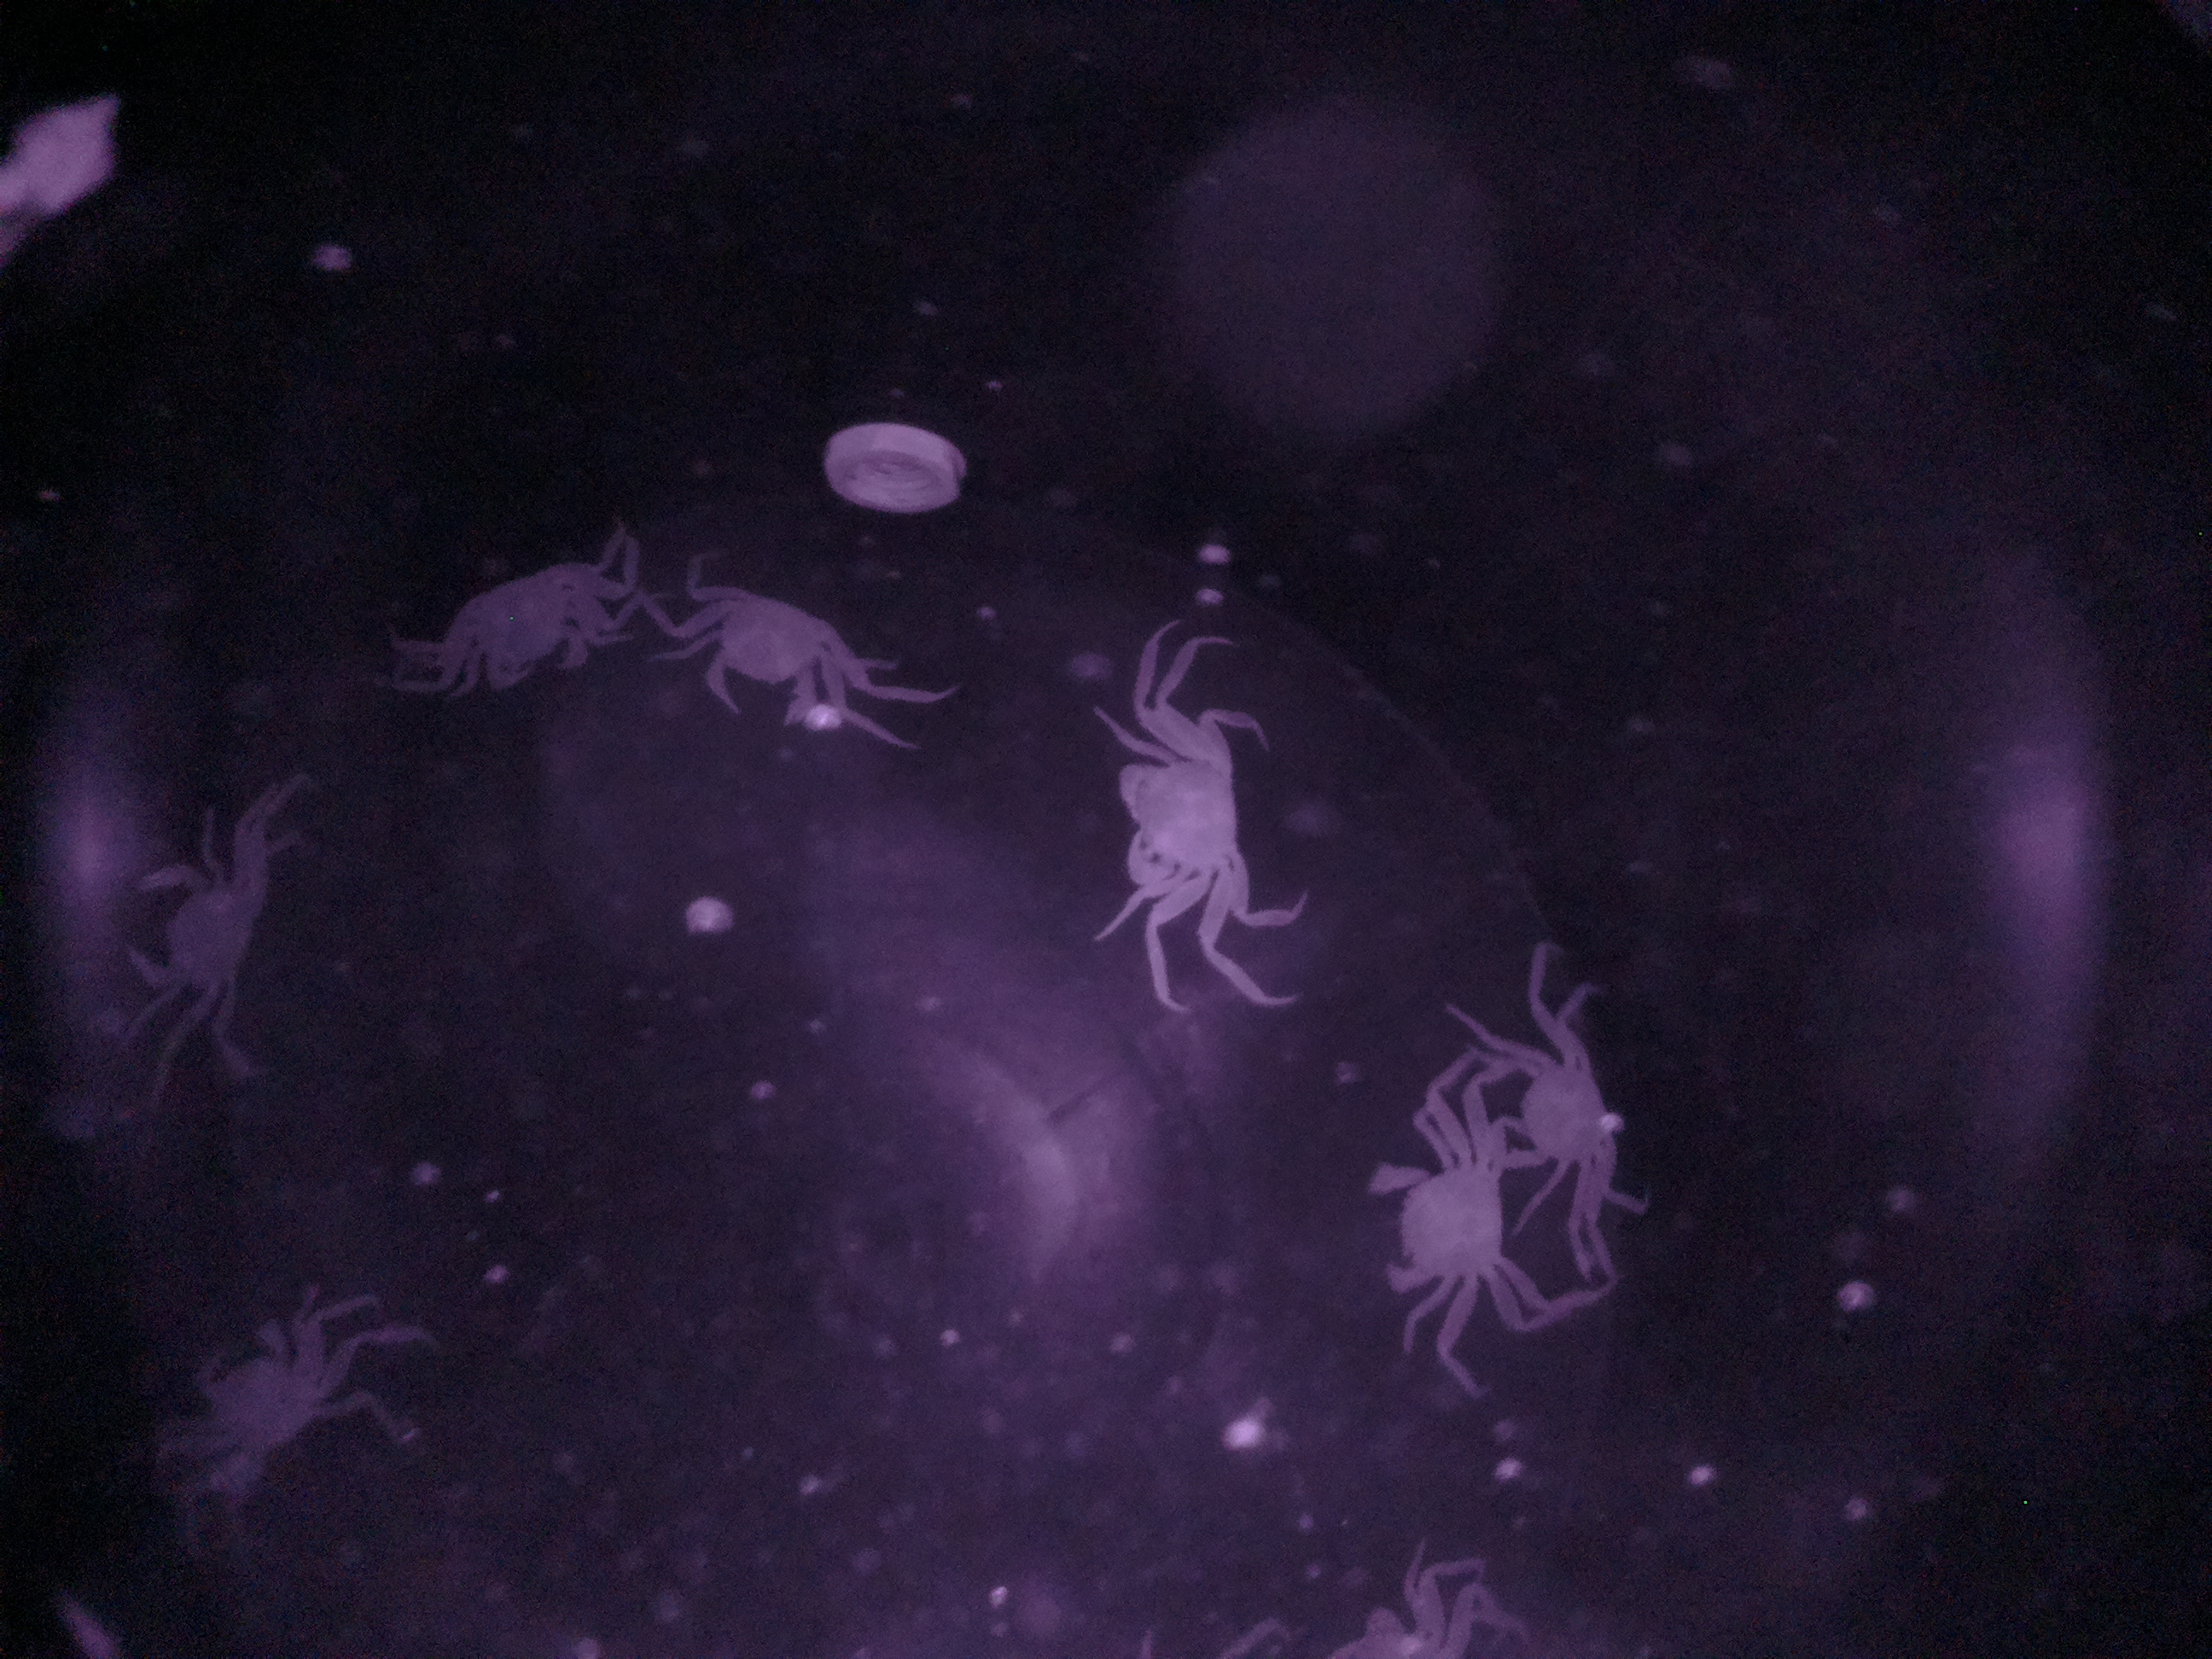Crab: (1099, 685, 1282, 985), (644, 563, 892, 748), (1357, 1082, 1531, 1338), (418, 530, 650, 701), (1494, 985, 1669, 1201)
